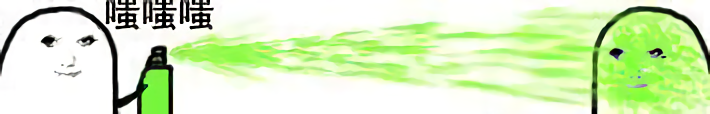dragon: (41, 26, 98, 88), (610, 44, 673, 97)
